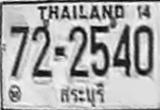0: (133, 24, 153, 76)
2: (31, 25, 53, 77), (68, 25, 89, 77)
4: (112, 24, 130, 76)
5: (90, 25, 110, 75)
7: (10, 25, 28, 77)
SRI: (58, 83, 107, 109)
